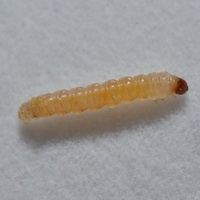insect: (18, 72, 187, 120)
